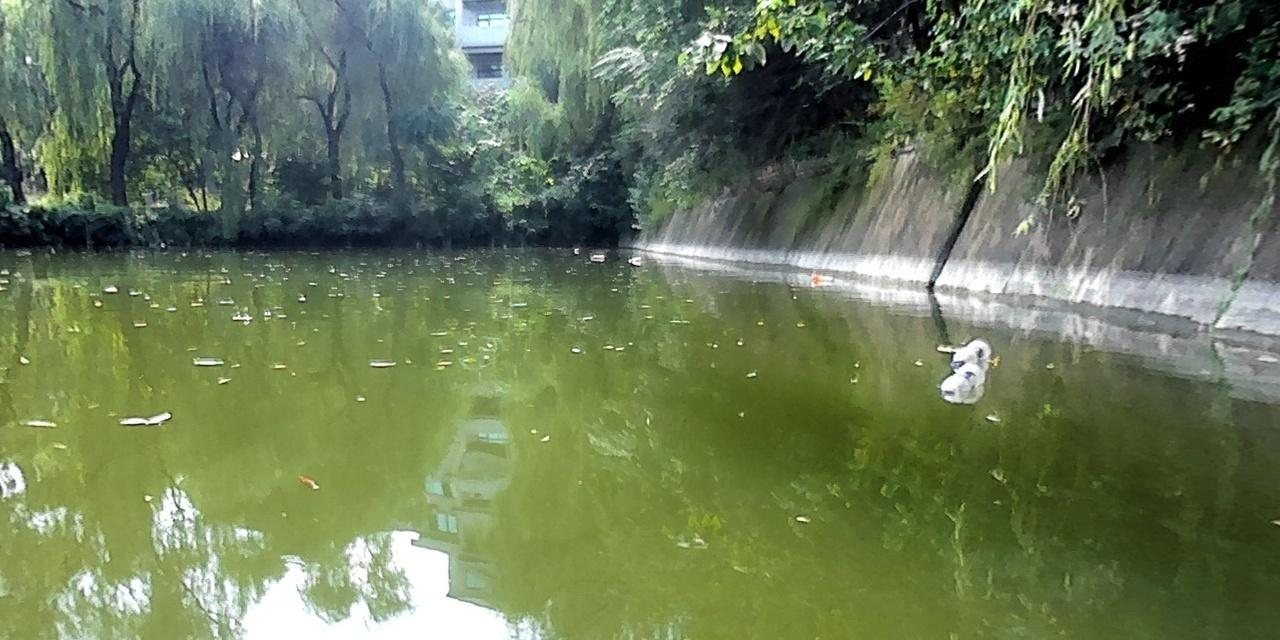bottle: (937, 357, 988, 399), (949, 334, 999, 370), (808, 269, 837, 286), (585, 251, 609, 261), (625, 254, 646, 263)
